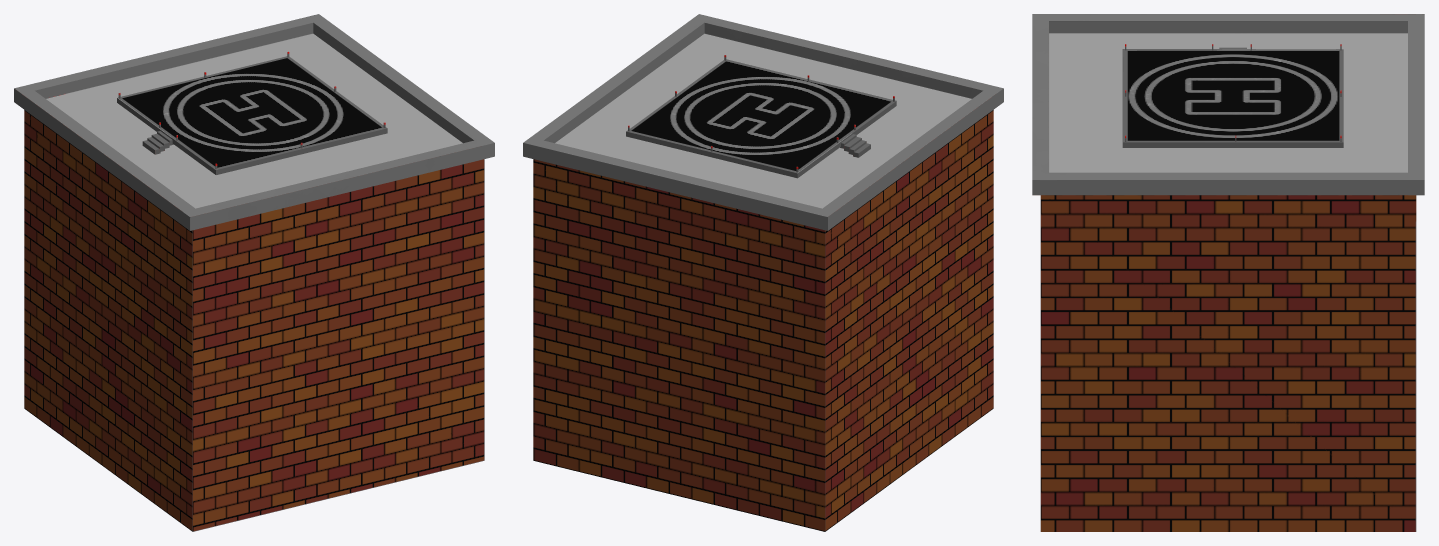
Rendered from building_3.fbx.
The picture shows the model from 3 angles, left to right: view 1: azimuth 30°, elevation 25°; view 2: azimuth 150°, elevation 25°; view 3: azimuth 270°, elevation 25°; orthographic projection. The views are drawn at different scales.
Visible parts, largest first — view 1: Building 3; view 2: Building 3; view 3: Building 3.
Boxes of the visible parts, <box> form: Building 3: <box>14,14,494,531</box>; Building 3: <box>523,14,1003,531</box>; Building 3: <box>1032,14,1424,531</box>.
Bounding box in the file's own units: 571 × 581 × 571.
Materials: 1 (1 with a texture image).
